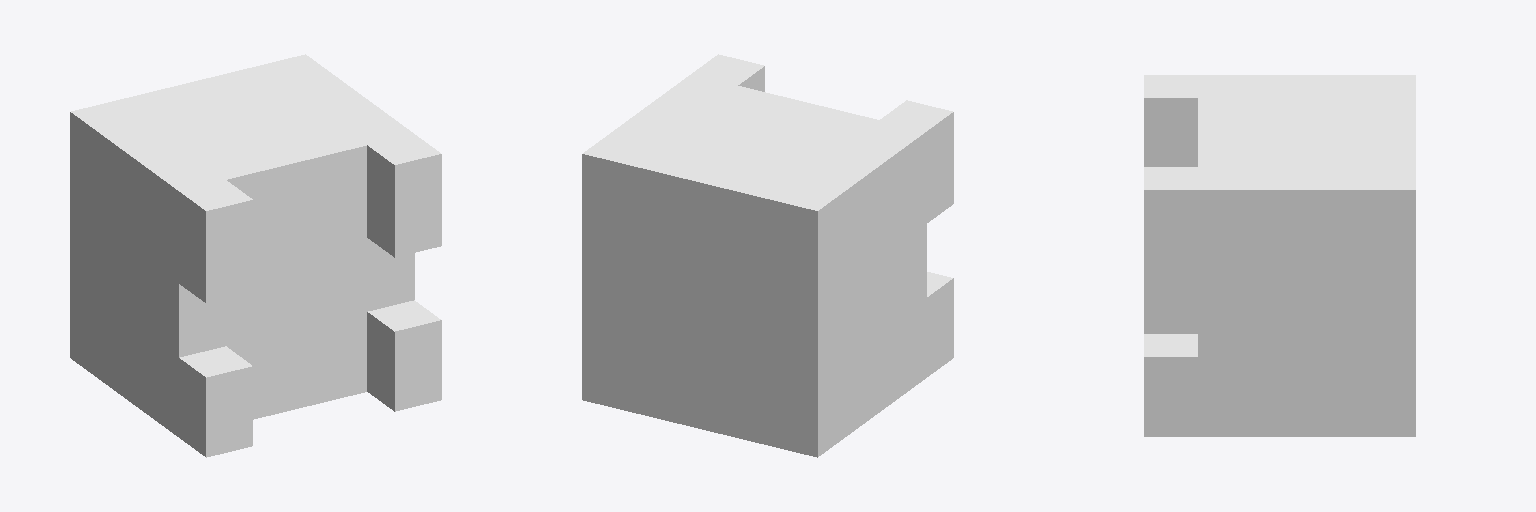
Rendered from t_Piece.obj.
The picture shows the model from 3 angles: view 1: azimuth 30°, elevation 25°; view 2: azimuth 150°, elevation 25°; view 3: azimuth 270°, elevation 25°; orthographic projection.
Parts seen in each view (by area): view 1: t_Piece; view 2: t_Piece; view 3: t_Piece.
Boxes of the visible parts, <box> form: t_Piece: <box>70,54,441,457</box>; t_Piece: <box>582,54,953,457</box>; t_Piece: <box>1144,75,1415,436</box>.
Size of the model in its own units: 40 by 40 by 40.